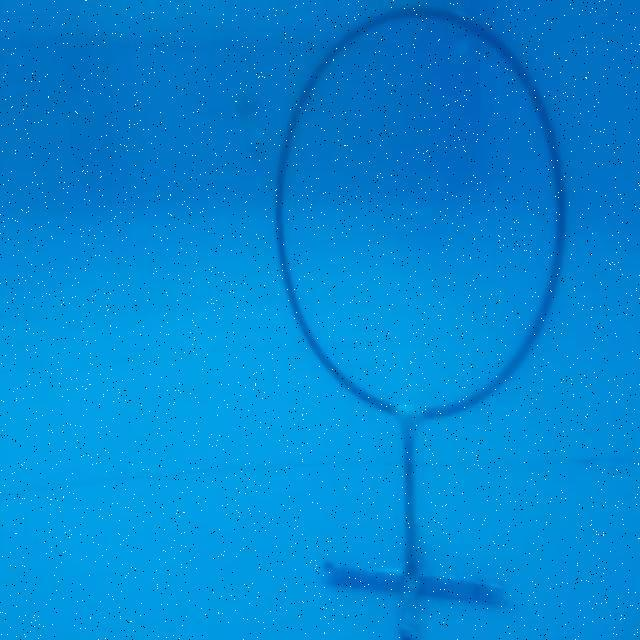Circle: (252, 2, 591, 430)
